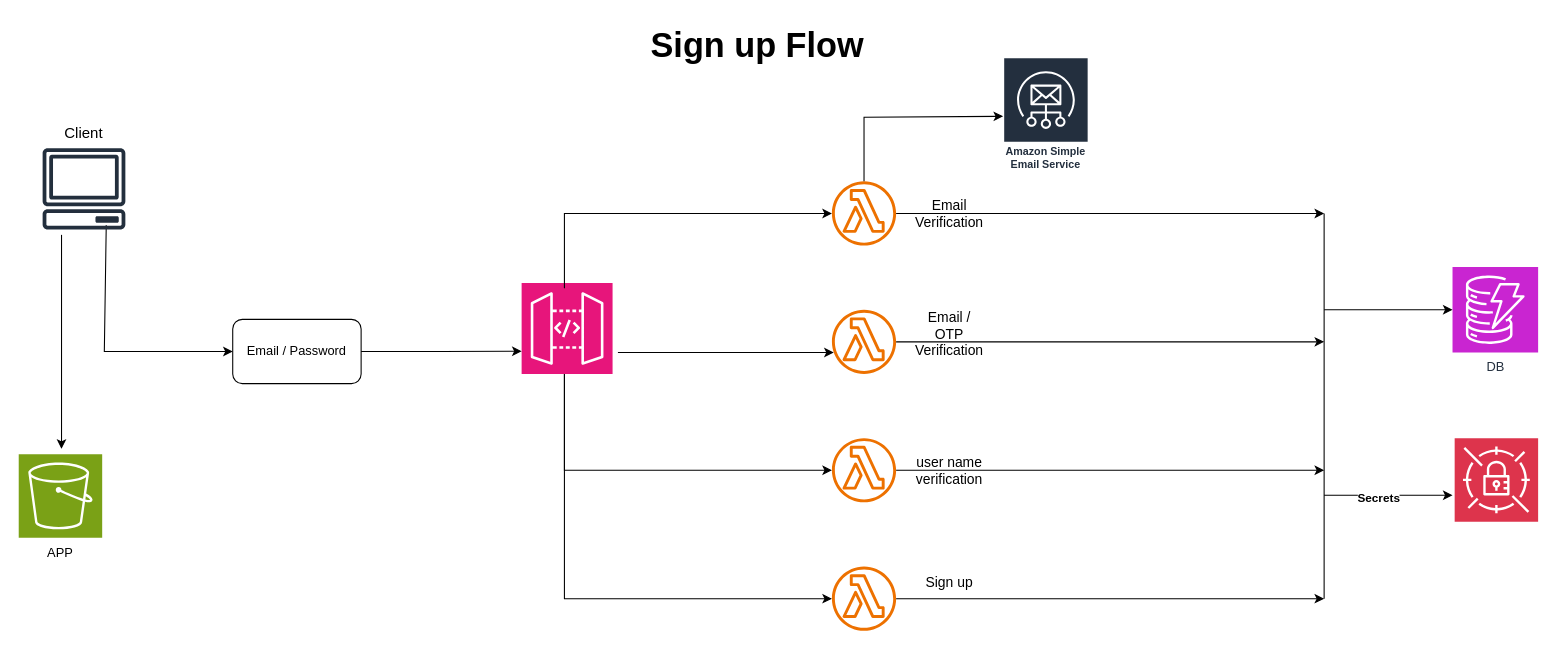
This 1563x648 diagram has some shape labels left out. The centre of each missing label's shape, as x and y in pixels:
"API GATEWAY" belongs at [567,328].
"Secrets Manager" belongs at [1496,479].
